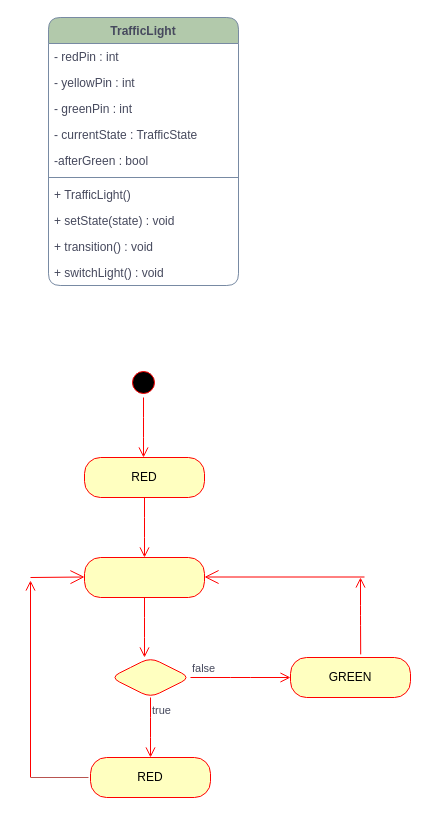
The diagram is 428 pixels wide and 815 high, and some of its shapes have lost their labels. Here are the shapes that lost their labels. From the top down, the box of each, then its label:
(84, 556, 204, 598): YELLOW
(110, 656, 190, 698): afterGreen
